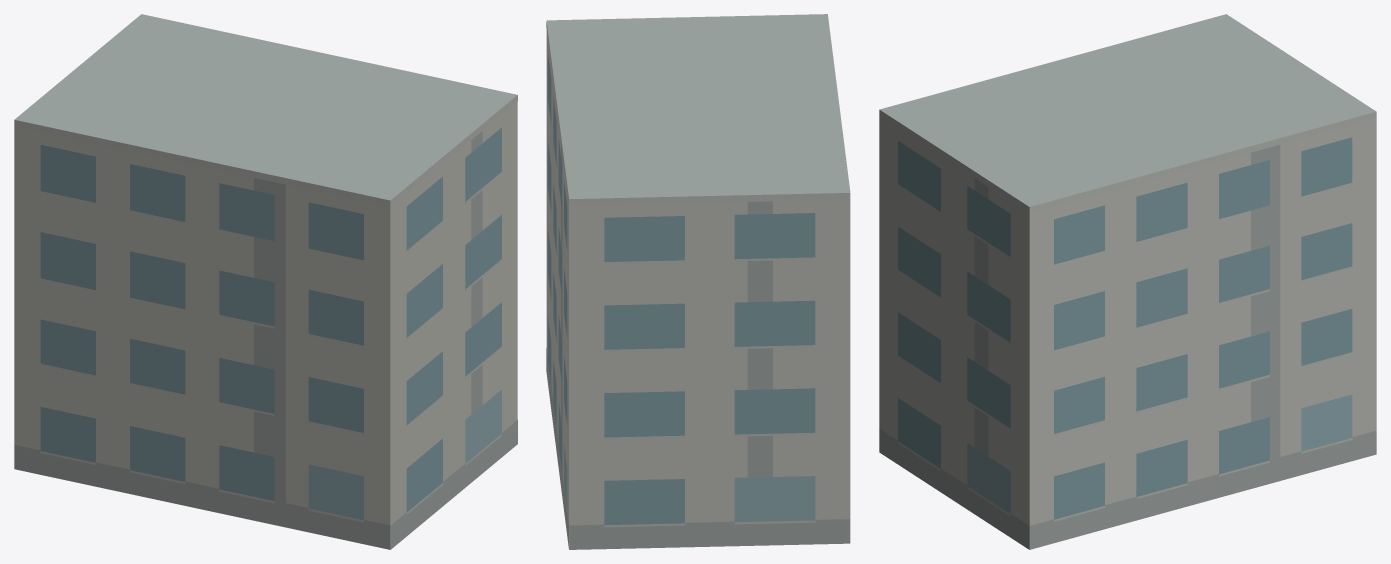
File: residential-4cb13d87-32d0-4d8f-af2d-70b88084edd8.glb
3 views of the same model, side by side, from view 1: azimuth 30°, elevation 25°; view 2: azimuth 150°, elevation 25°; view 3: azimuth 270°, elevation 25° (orthographic). The views are drawn at different scales.
Visible parts, largest first — view 1: residential-4cb13d87-32d0-4d8f-af2d-70b88084edd8.tmp; view 2: residential-4cb13d87-32d0-4d8f-af2d-70b88084edd8.tmp; view 3: residential-4cb13d87-32d0-4d8f-af2d-70b88084edd8.tmp.
Part boxes in pixels (x1,y1,x2,y2): residential-4cb13d87-32d0-4d8f-af2d-70b88084edd8.tmp: (14,14,517,549); residential-4cb13d87-32d0-4d8f-af2d-70b88084edd8.tmp: (546,14,850,549); residential-4cb13d87-32d0-4d8f-af2d-70b88084edd8.tmp: (879,14,1376,549).
Size of the model in its own units: 15.58 by 12.9 by 16.96.
